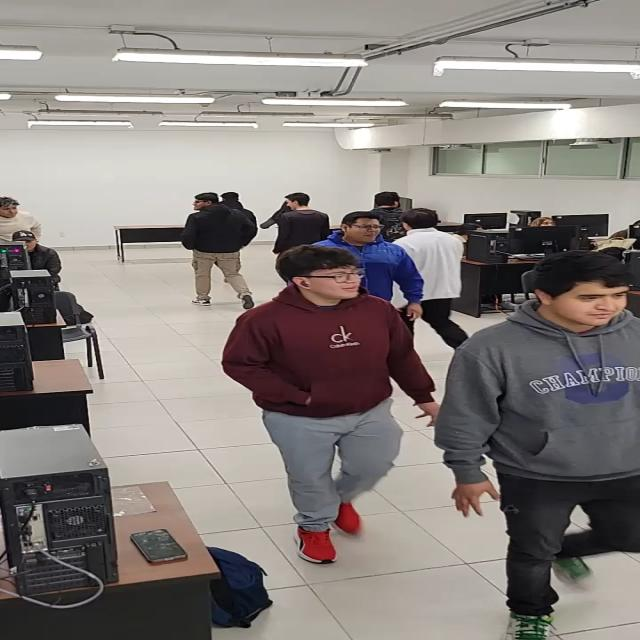Persona: (442, 255, 640, 640), (236, 246, 427, 565), (389, 208, 469, 342), (176, 187, 254, 309), (272, 190, 330, 249)
